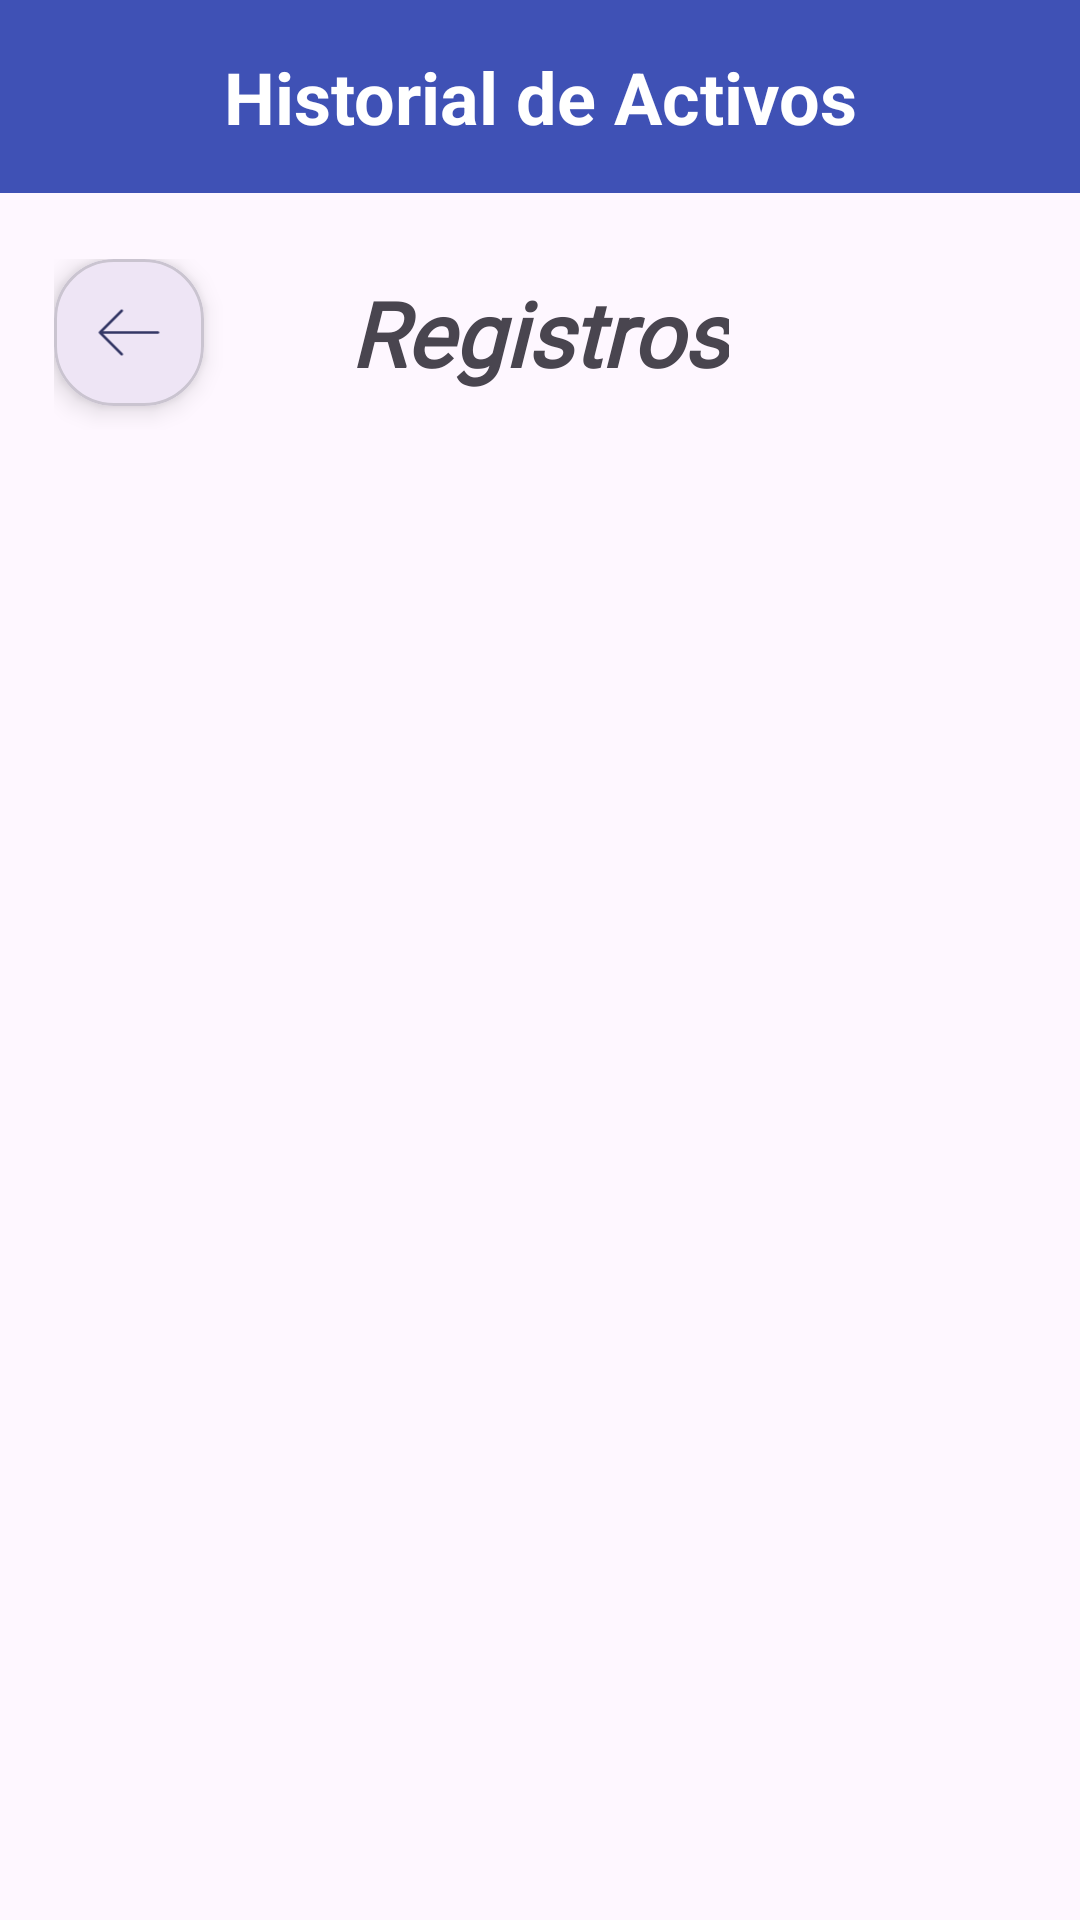

Where to tap for icons on this 1080w x 1920h app screen, as [x,y]:
Regresar: [129,332]
